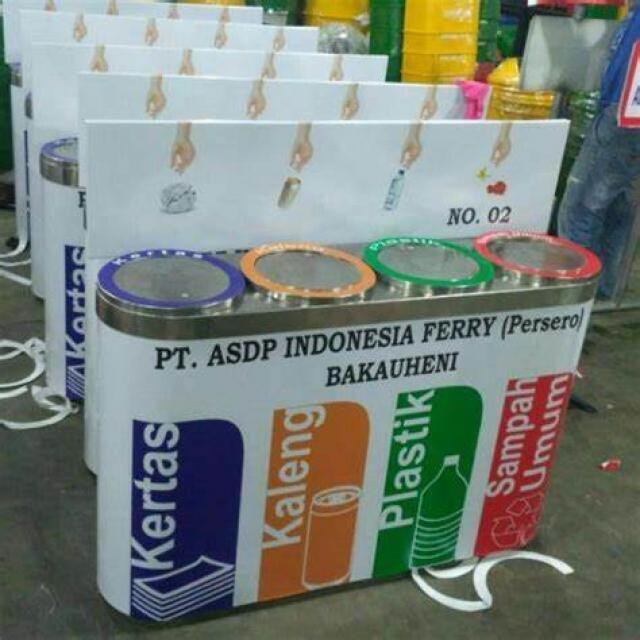garbage container: (91, 215, 594, 640)
